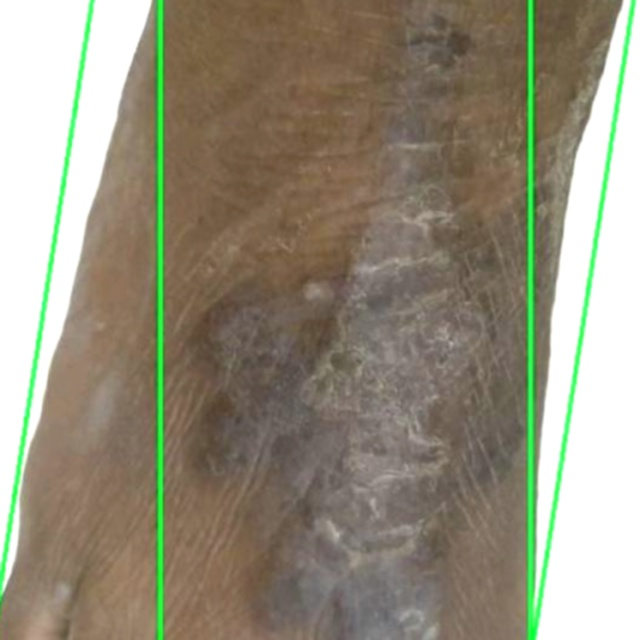Eczema: (0, 0, 634, 639)
